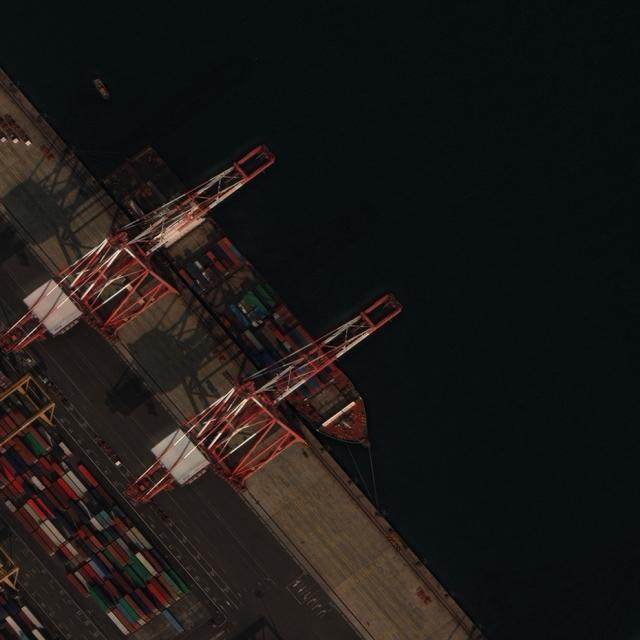Container Ship: (102, 144, 389, 468)
Other Ship: (93, 78, 112, 102)
